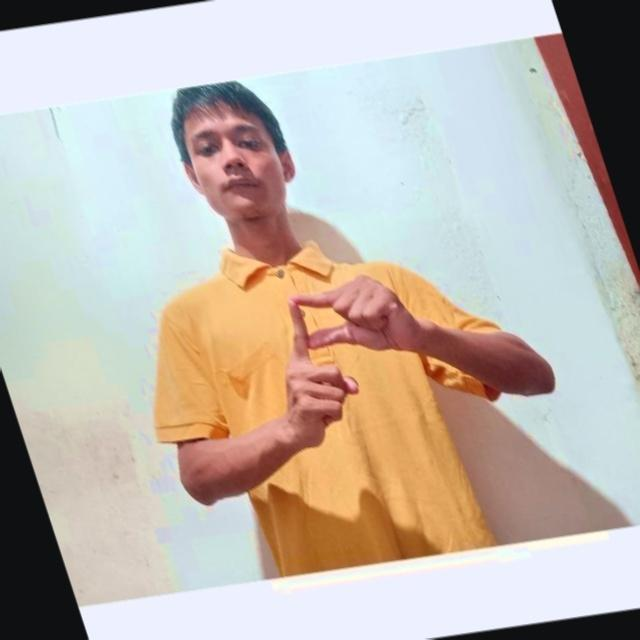P: (278, 284, 393, 420)
